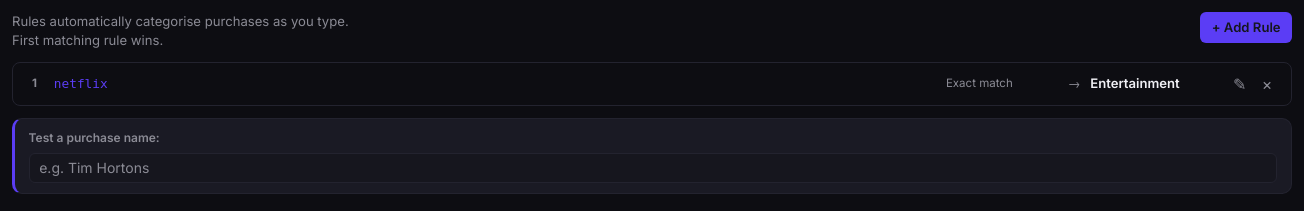
Test: RulesEngine › shows "No match" in live test when no rule matches
Type "random purchase" into the field with id "rules-test-input".
click(653, 168); type("random purchase")  # box [29,153,1277,183]
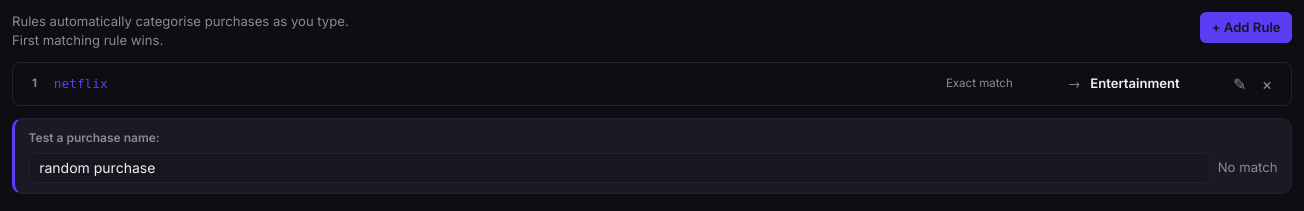
Expected: the text "No match" is shown, [1218,158,1277,178]
Expected: the text with class "rules-engine__test-no-match" reads "No match", [1218,159,1277,175]
